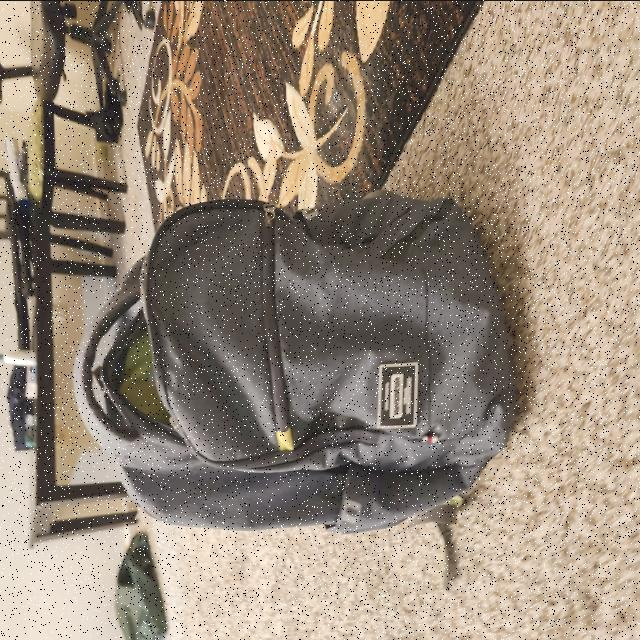bag: (76, 192, 525, 536)
